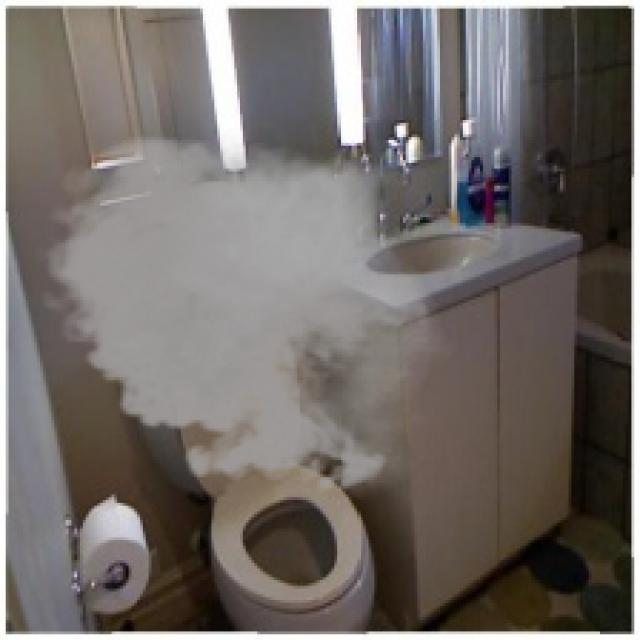smoke: (32, 123, 454, 503)
